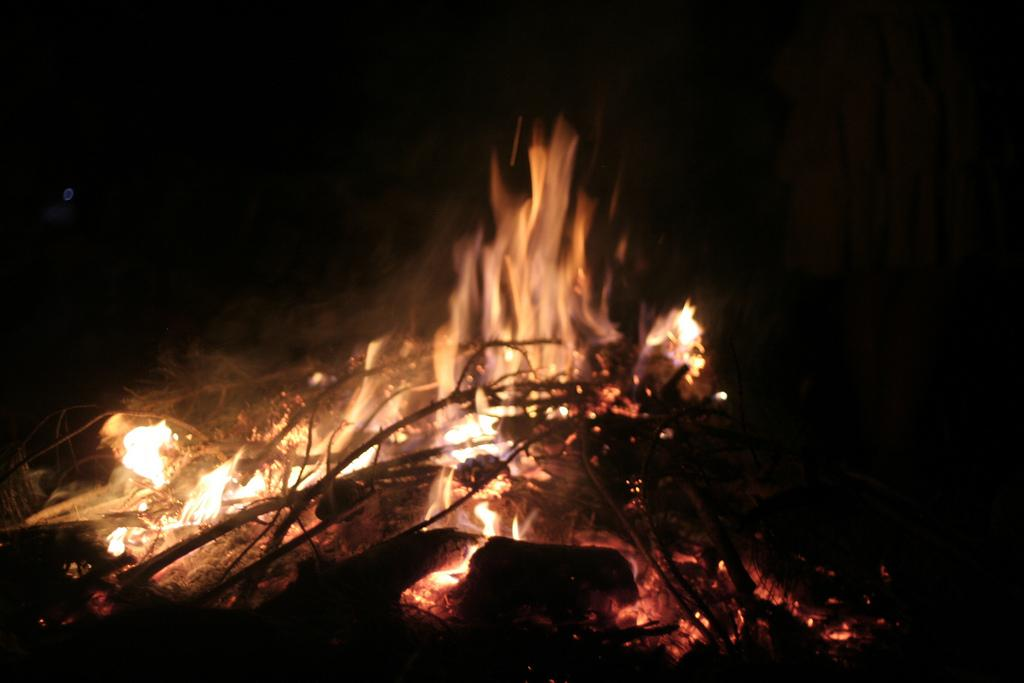fire: (515, 238, 558, 332), (133, 428, 160, 473), (198, 480, 222, 515)
